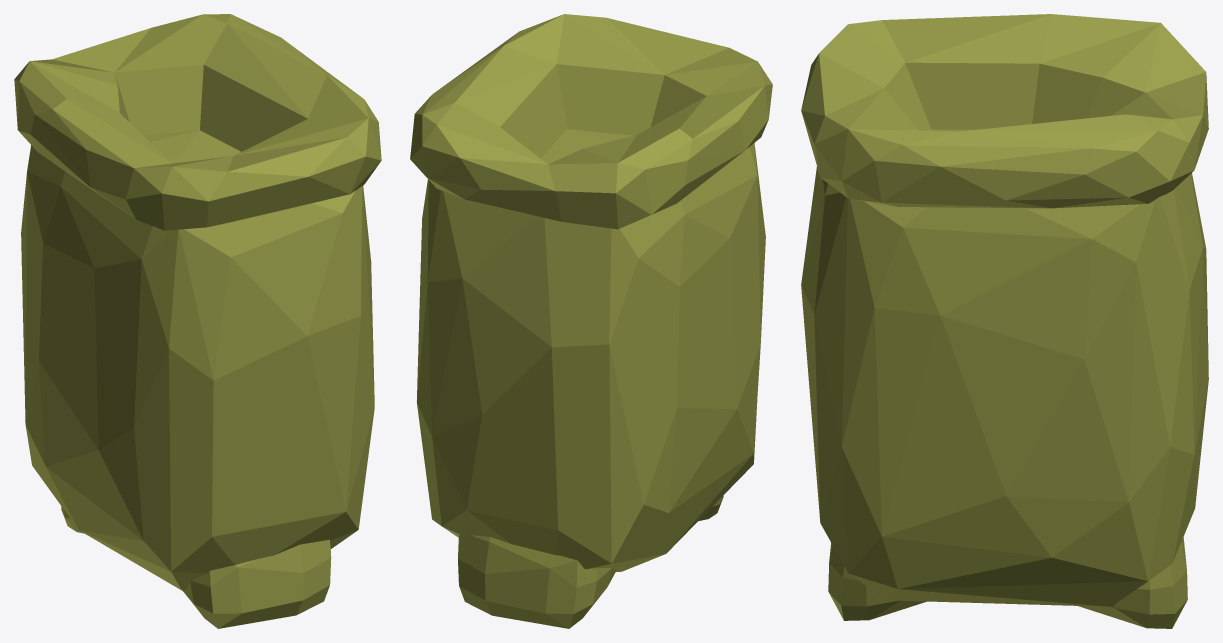
The model's file is sack of grain v3.obj.
3 views of the same model, side by side, from view 1: azimuth 30°, elevation 25°; view 2: azimuth 150°, elevation 25°; view 3: azimuth 270°, elevation 25° (orthographic). The views are drawn at different scales.
Visible parts, largest first — view 1: Cube.000; view 2: Cube.000; view 3: Cube.000.
Part boxes in pixels (x1=…): Cube.000: x1=14, y1=14, x2=381, y2=628; Cube.000: x1=410, y1=14, x2=772, y2=628; Cube.000: x1=801, y1=14, x2=1208, y2=628.
Bounding box in the file's own units: 0.2815 × 0.5001 × 0.3427.
